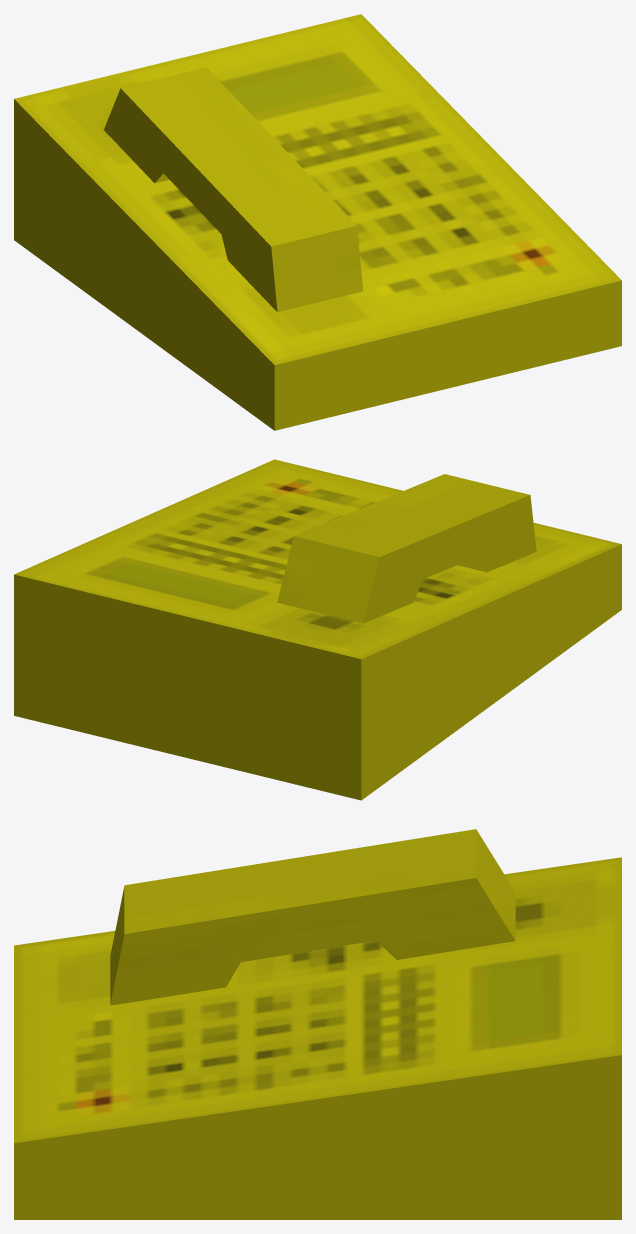
File: SM_Phone.glb
3 views of the same model, one above another, from view 1: azimuth 30°, elevation 25°; view 2: azimuth 150°, elevation 25°; view 3: azimuth 270°, elevation 25° (orthographic). The views are drawn at different scales.
Parts seen in each view (by area): view 1: SM_Phone; view 2: SM_Phone; view 3: SM_Phone.
Boxes of the visible parts, <box> form: SM_Phone: <box>14,14,621,430</box>; SM_Phone: <box>14,459,621,800</box>; SM_Phone: <box>14,829,621,1219</box>.
Bounding box in the file's own units: 0.1276 × 0.0656 × 0.1658.
1 material, 1 textured.
